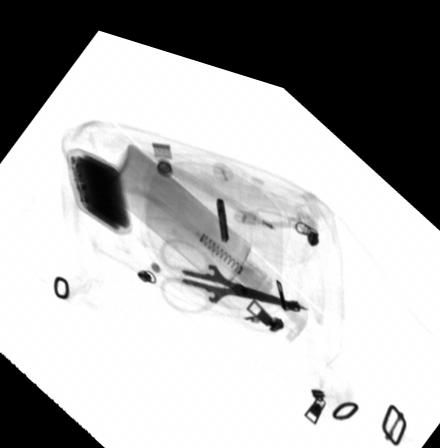Powerbank: (66, 141, 131, 228)
Scissors: (158, 229, 305, 305)
